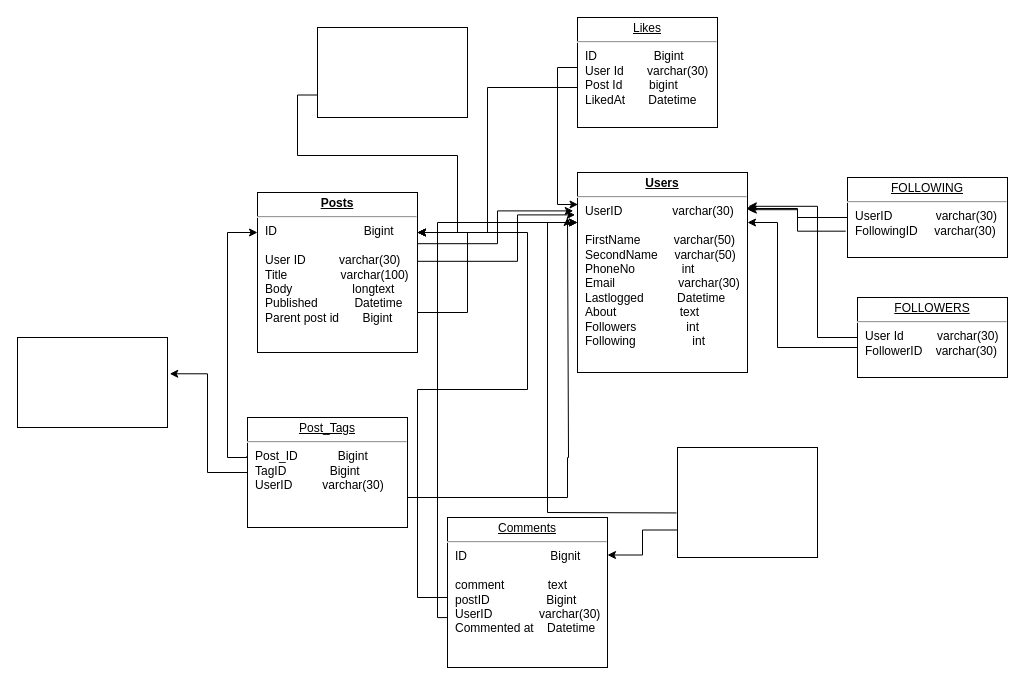
This 1025x685 diagram has some shape labels left out. Here are the shapes that lost their labels. From the top down, the box of each, then its label:
(316, 26, 468, 118): Post_Type Type varchar(30) Post_id Bigint
(16, 336, 168, 428): TAGS ID Bigint TagName varchar(30) Description varchar(200)
(676, 446, 818, 558): LIKES_COMMENT ID Bigint User ID varchar(30) CommentID Bigint
